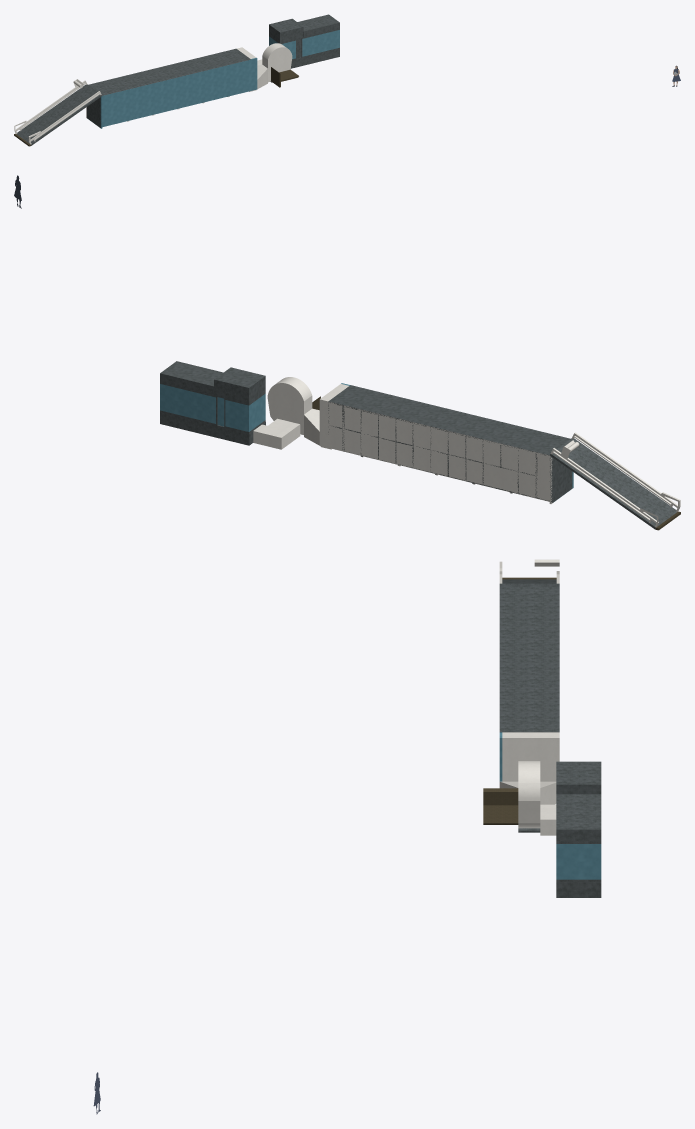
File: bio-dehydrator.glb
The picture shows the model from 3 angles, top to bottom: view 1: azimuth 30°, elevation 25°; view 2: azimuth 150°, elevation 25°; view 3: azimuth 270°, elevation 25°; orthographic projection. The views are drawn at different scales.
Parts seen in each view (by area): view 1: 58803, 58284, 52602, 61145, 63983, 63429, 64059, 62937, 52731, 52406, 61584, 60795; view 2: 58675, 58284, 52602, 61145, 63983, 62937, 63286, 64059, 61950, 52731, 52406; view 3: 58284, 58782, 64059, 61145, 63983, 61584, 63876, 63844.
Part boxes in pixels (box(x1,y1,x2,y2)): 58803: box(100, 57, 257, 128); 58284: box(87, 48, 250, 127); 52602: box(17, 84, 101, 145); 61145: box(262, 43, 292, 82); 63983: box(269, 18, 303, 42); 63429: box(302, 30, 339, 56); 64059: box(297, 14, 339, 34); 62937: box(290, 49, 339, 68); 52731: box(29, 91, 101, 144); 52406: box(14, 80, 87, 133); 61584: box(271, 67, 298, 87); 60795: box(257, 64, 267, 89); 58675: box(319, 398, 552, 503); 58284: box(328, 385, 572, 502); 52602: box(550, 438, 676, 529); 61145: box(267, 377, 312, 434); 63983: box(214, 367, 265, 403); 62937: box(160, 412, 265, 445); 63286: box(225, 394, 265, 431); 64059: box(160, 361, 223, 391); 61950: box(253, 424, 290, 449); 52731: box(572, 432, 679, 511); 52406: box(550, 448, 658, 527); 58284: box(499, 586, 559, 732); 58782: box(502, 732, 556, 781); 64059: box(556, 794, 601, 840); 61145: box(518, 761, 540, 828); 63983: box(556, 761, 601, 794); 61584: box(483, 788, 518, 824); 63876: box(556, 861, 601, 879); 63844: box(556, 844, 601, 861).
Size of the model in its own units: 43.84 by 3.13 by 17.5.
Materials: 930 (714 with a texture image).
